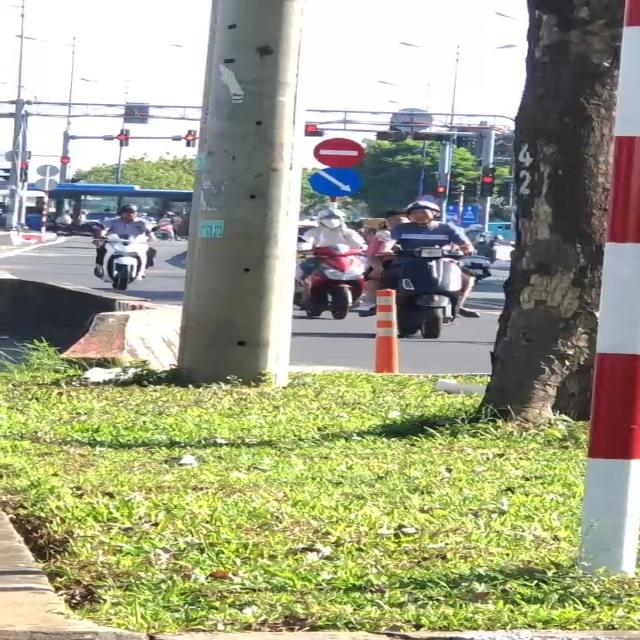Bien bao cam di nguoc chieu: (312, 136, 368, 168)
Bien bao huong phai di vong chuong ngai vat: (308, 166, 369, 199)
